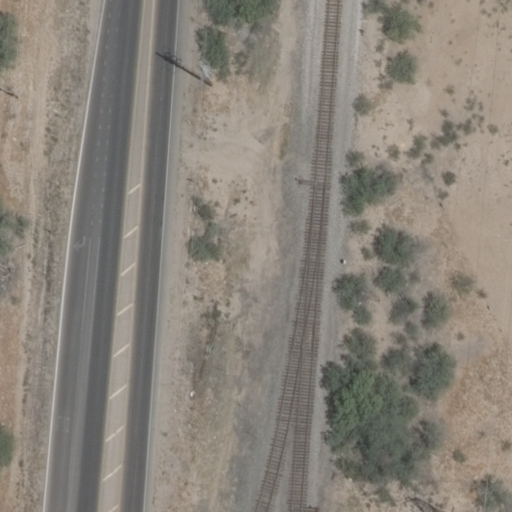DT: (194, 54, 213, 84)
